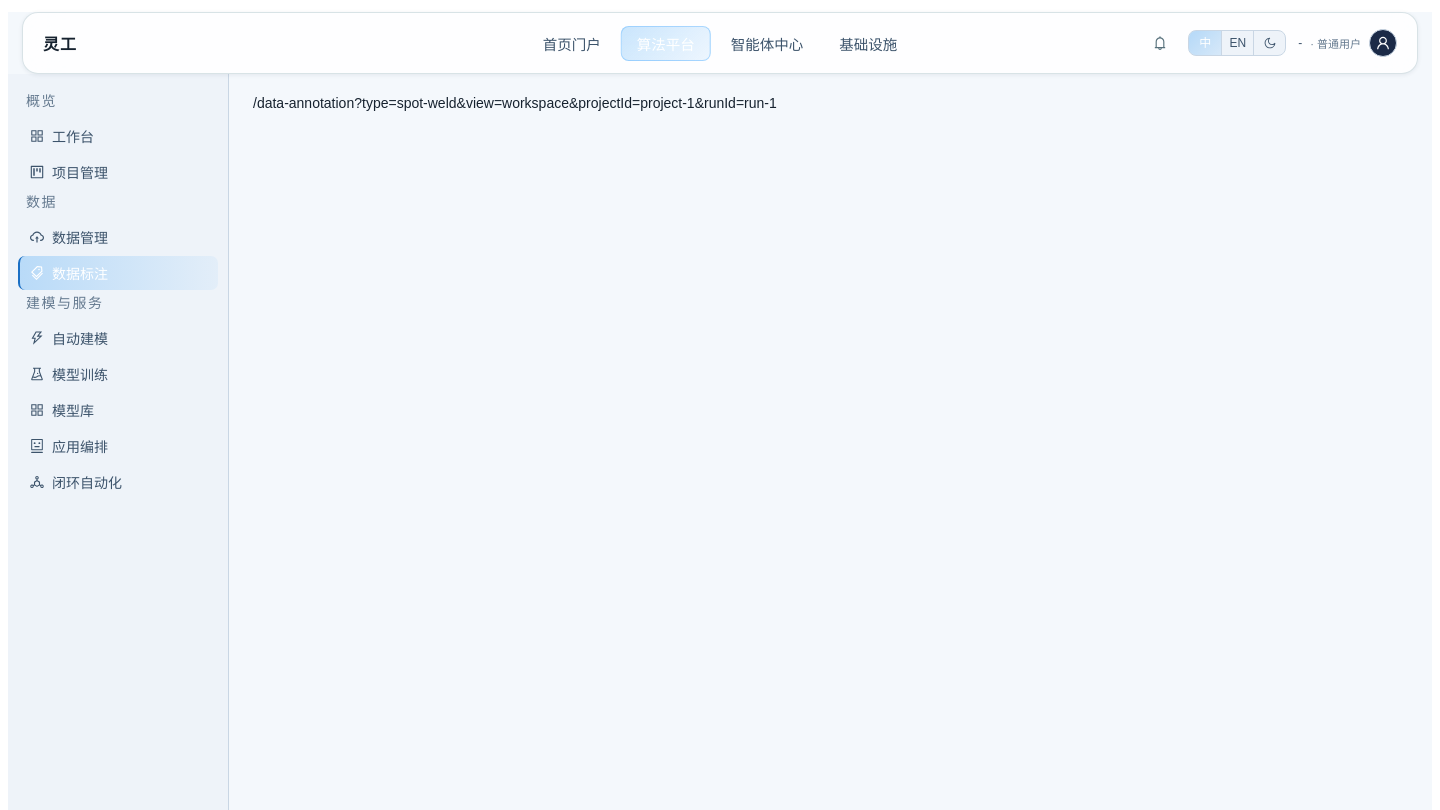
Scenario: AppLayout (v2 five-view shell) › returns to the annotation task list from an active annotation run
Click the button "数据标注".
click(118, 273)  # box [18,256,218,290]
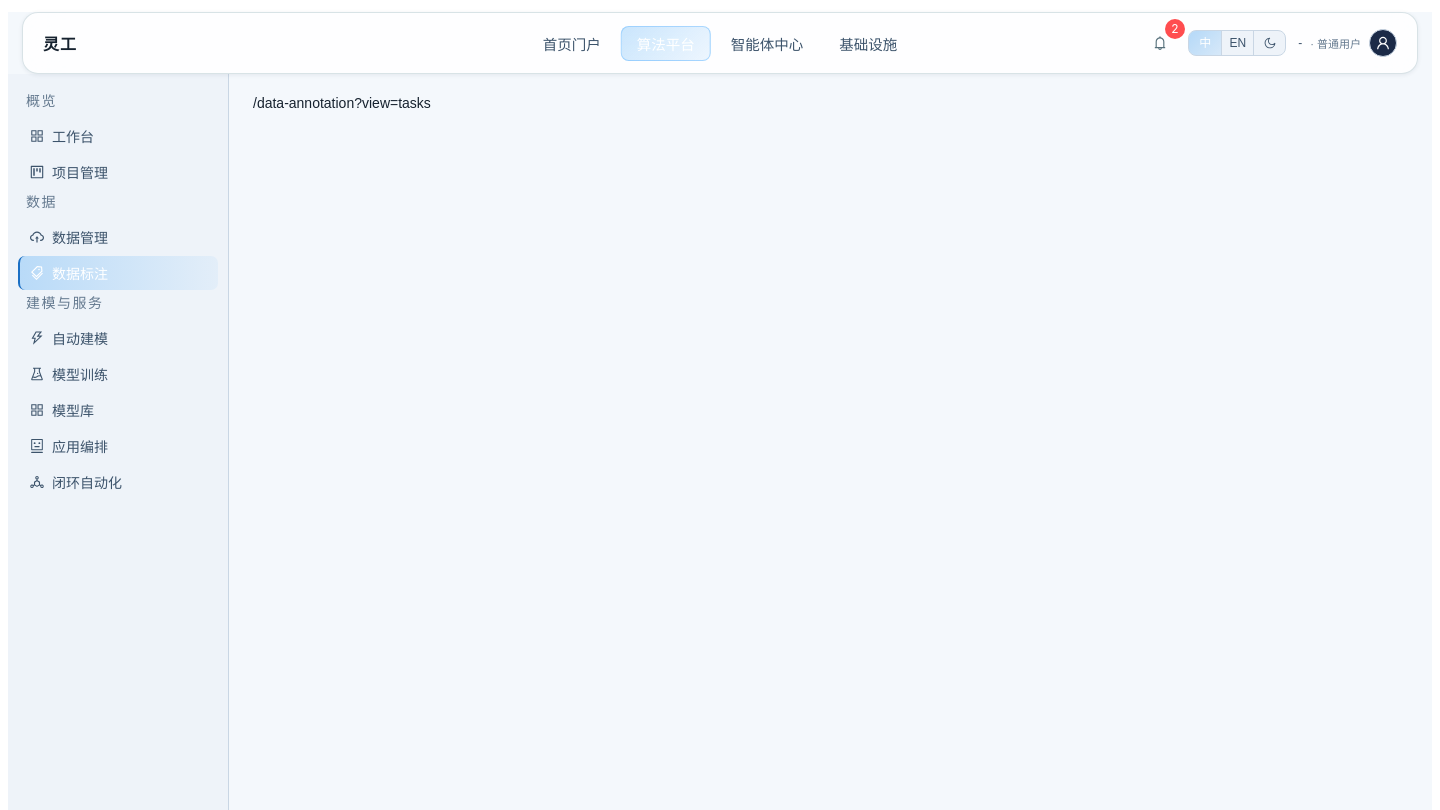
Expected: the text with test id "location" reads "/data-annotation?view=tasks", [253,95,431,111]
